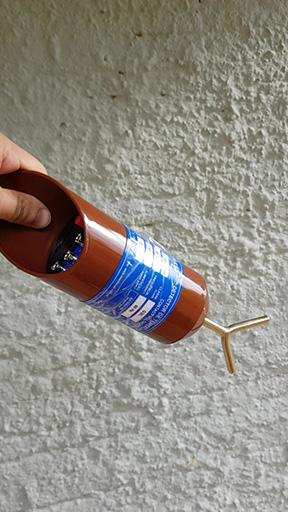Detector_Tensao_Contato: (1, 169, 270, 374)
